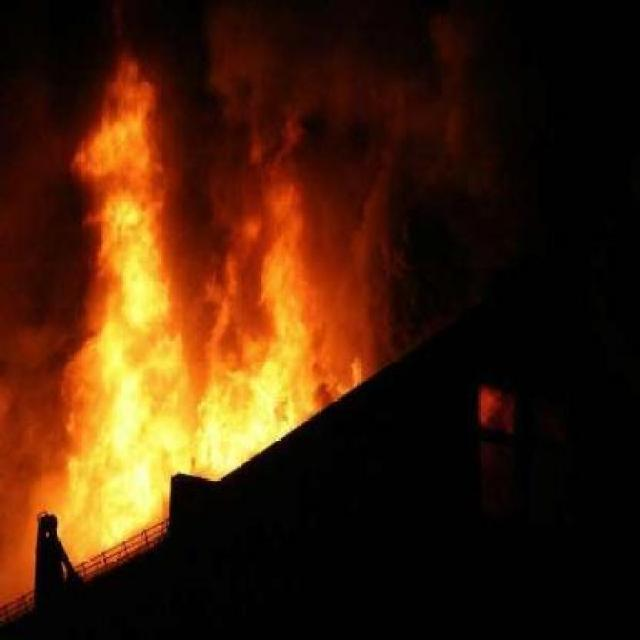Fire: (27, 68, 526, 554)
